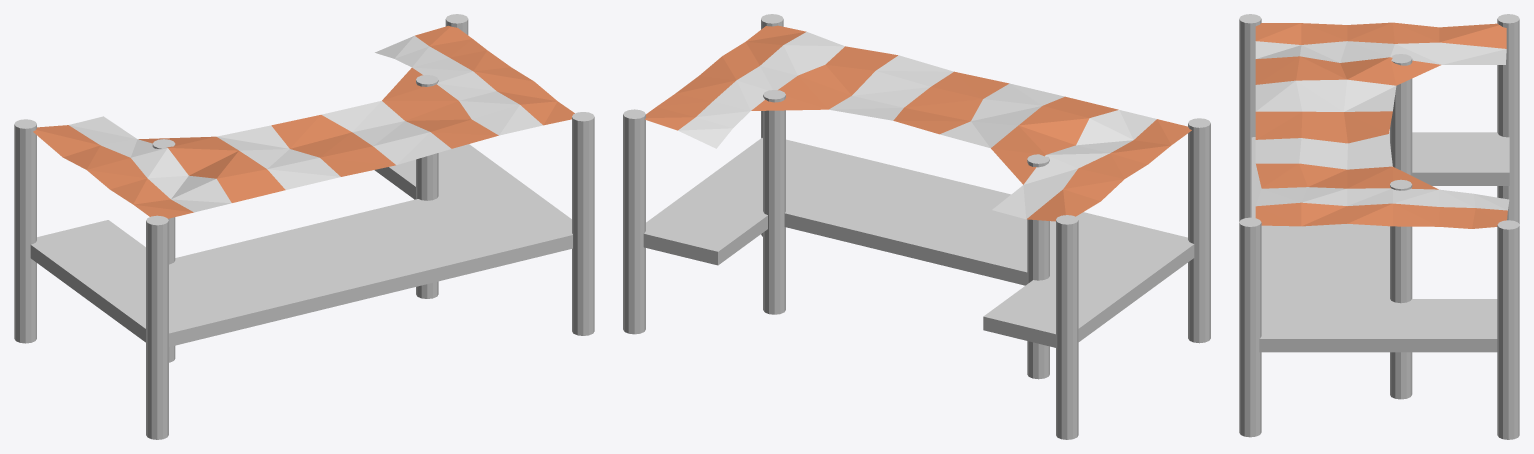
Rendered from market.fbx.
The picture shows the model from 3 angles, left to right: view 1: azimuth 30°, elevation 25°; view 2: azimuth 150°, elevation 25°; view 3: azimuth 270°, elevation 25°; orthographic projection. The views are drawn at different scales.
Visible parts, largest first — view 1: Cylinder.001; view 2: Cylinder.001; view 3: Cylinder.001.
Part boxes in pixels (x1=…): Cylinder.001: x1=14, y1=14, x2=594, y2=439; Cylinder.001: x1=623, y1=14, x2=1210, y2=439; Cylinder.001: x1=1239, y1=14, x2=1519, y2=439.
Size of the model in its own units: 619 by 285 by 340.
